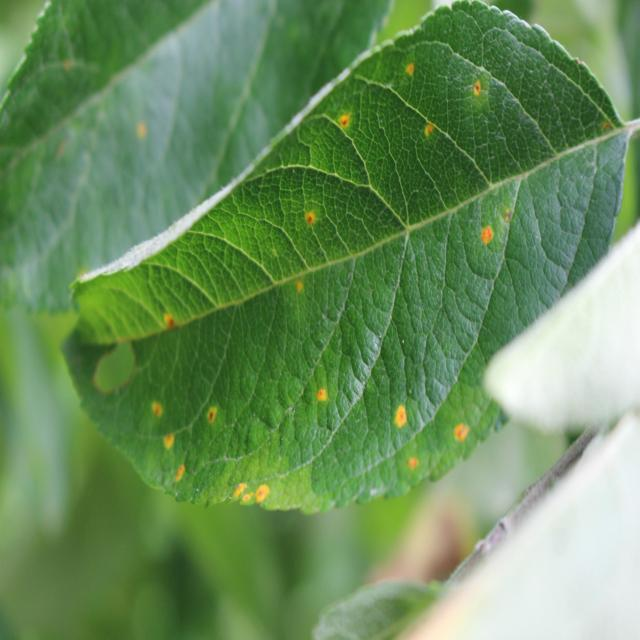Rust: (230, 472, 278, 506), (160, 299, 181, 349), (465, 74, 494, 108), (289, 260, 308, 308), (138, 398, 178, 419), (131, 111, 150, 154), (478, 214, 497, 254), (311, 377, 331, 415), (169, 462, 200, 486), (302, 202, 321, 236), (160, 425, 180, 456), (393, 405, 413, 436), (203, 393, 220, 428), (454, 416, 471, 451), (421, 112, 435, 148), (338, 106, 352, 139), (404, 447, 420, 473), (404, 57, 416, 85), (598, 115, 614, 136)
